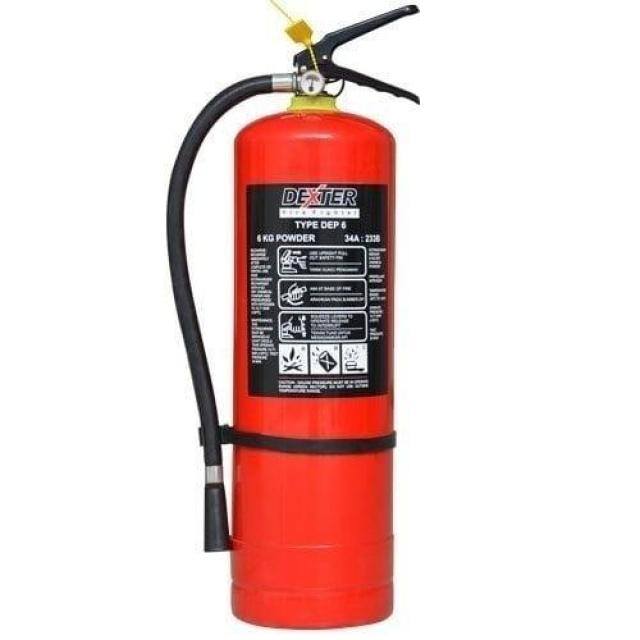fire_extinguisher: (160, 0, 424, 635)
